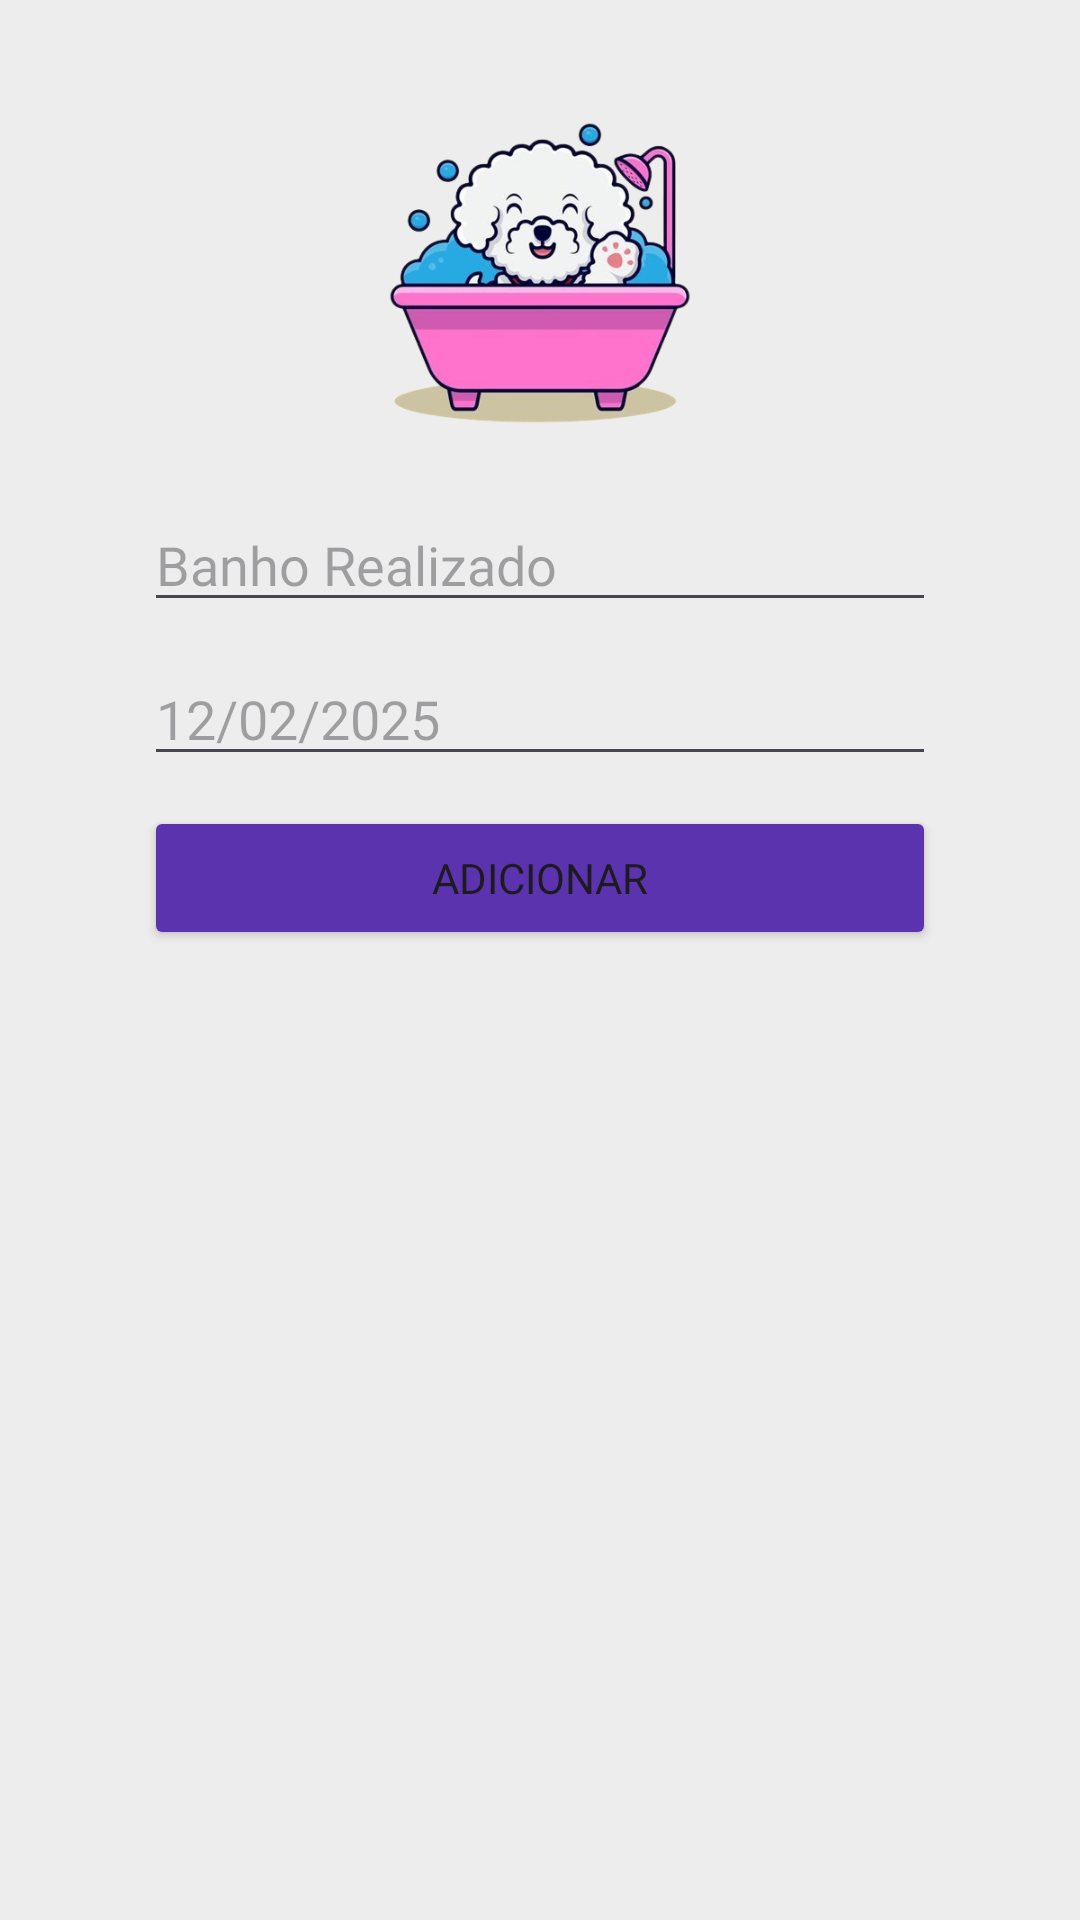

Locate icon controls on the screen. Image size 1080w x 1920h, boxes as Rect(x1, y1, x2, y2).
higiene: Rect(390, 123, 690, 422)
